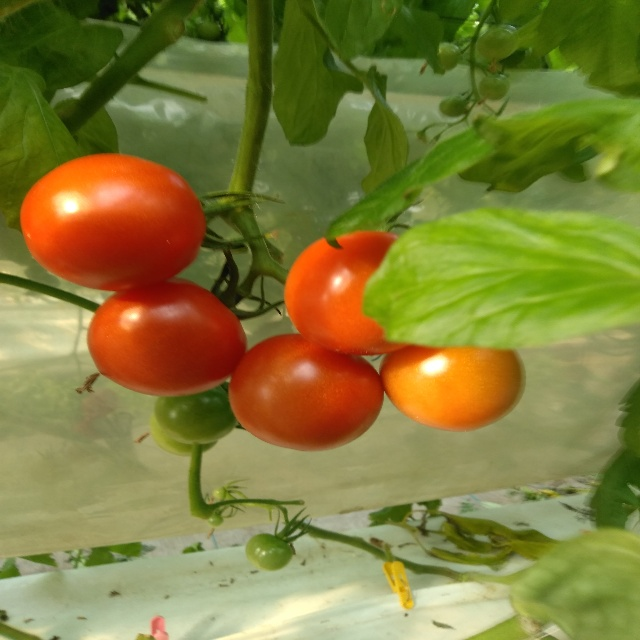l_fully_ripened: (20, 154, 207, 292), (86, 277, 248, 397), (228, 333, 385, 453), (284, 231, 411, 356)
l_green: (153, 385, 237, 444), (149, 413, 220, 459), (245, 533, 293, 571), (207, 514, 223, 527), (213, 486, 226, 501)
l_half_ripened: (379, 344, 524, 432)
